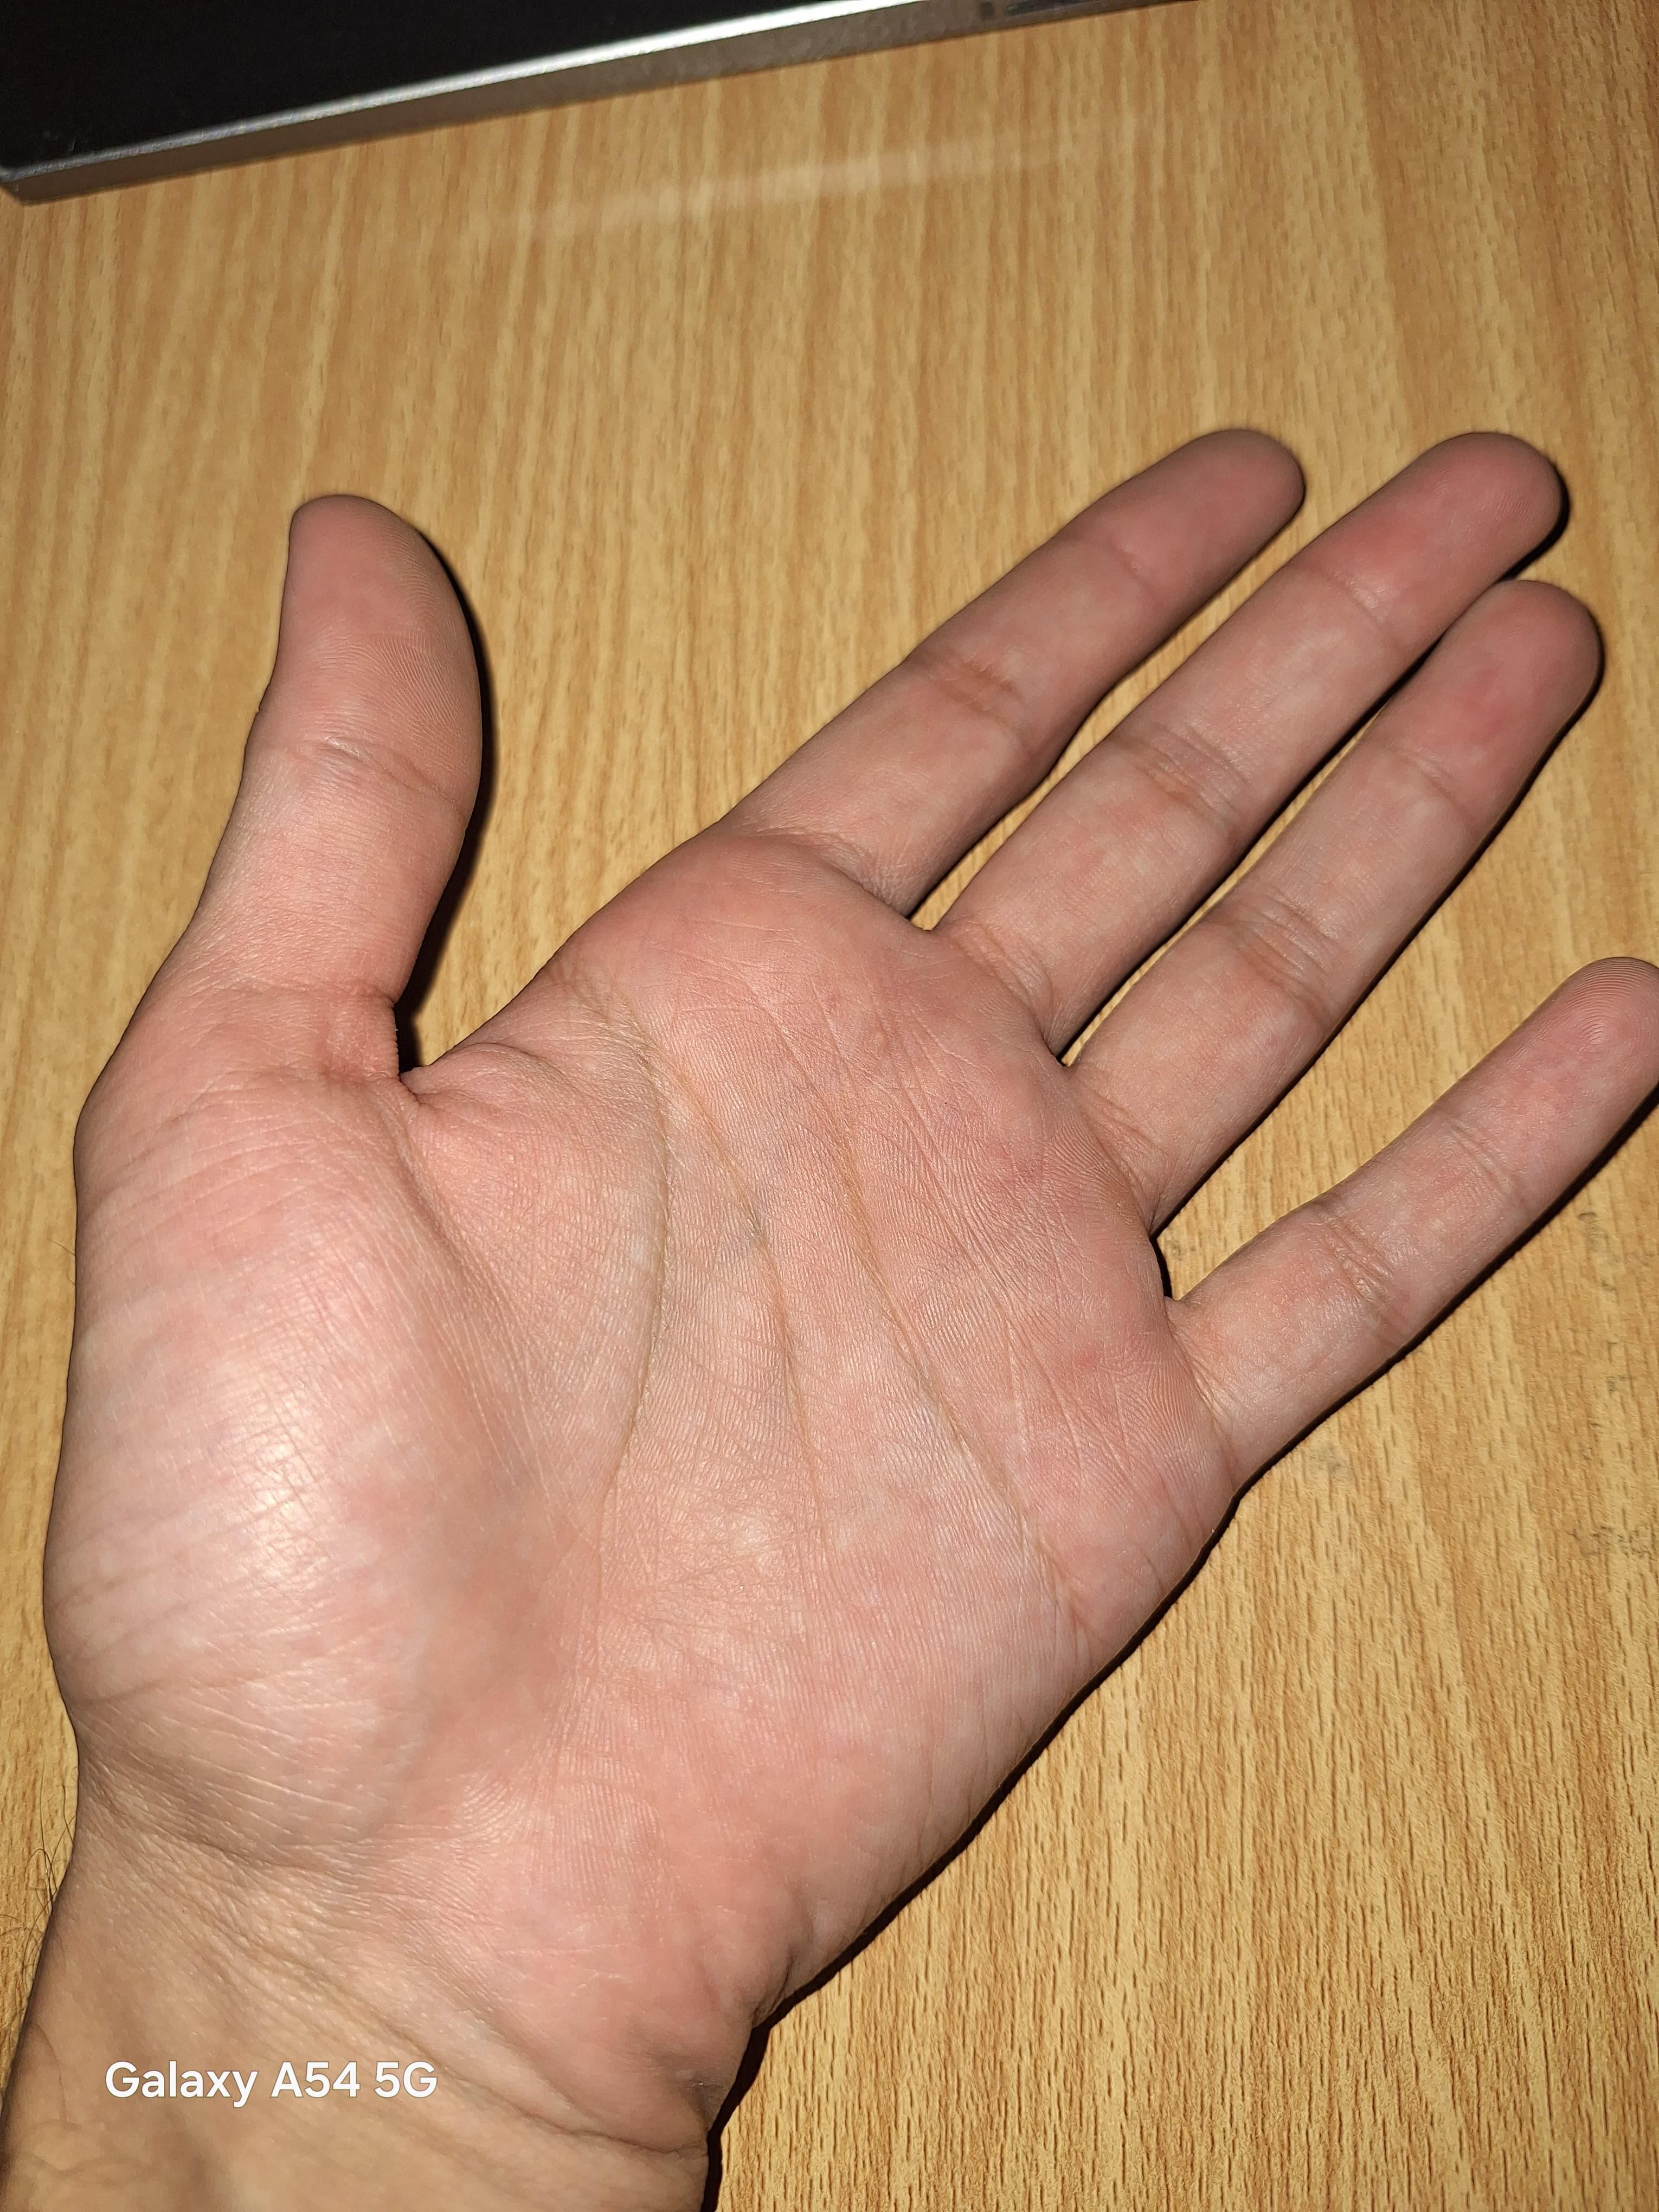non-mango: (33, 376, 1654, 1924)
